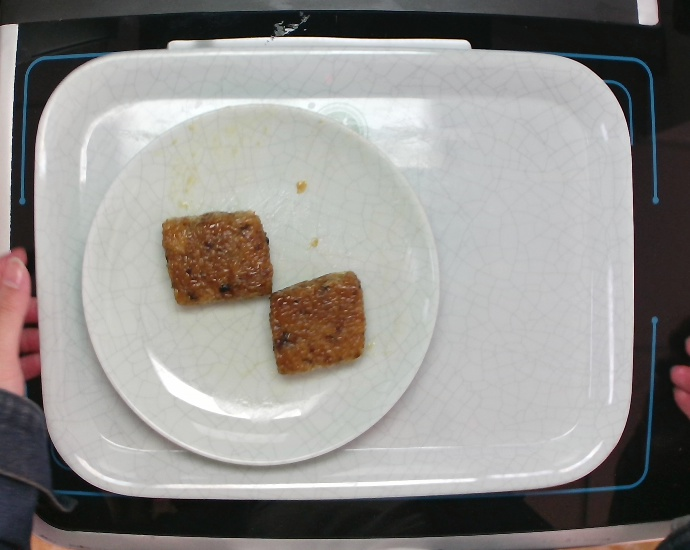JYsf-Da_Yuan_Pan: (78, 102, 443, 469)
